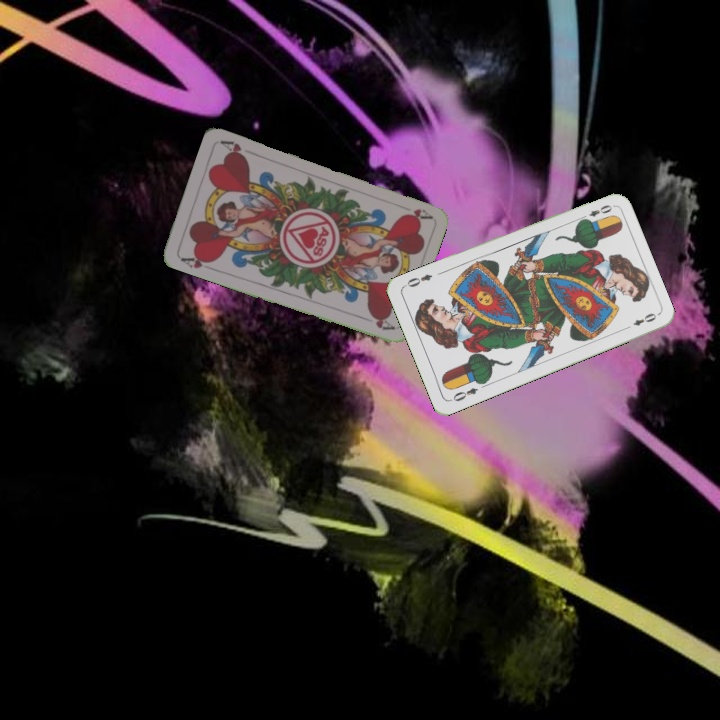EO: (576, 201, 615, 223), (446, 383, 480, 404)
HA: (176, 250, 217, 272), (394, 201, 434, 222)
